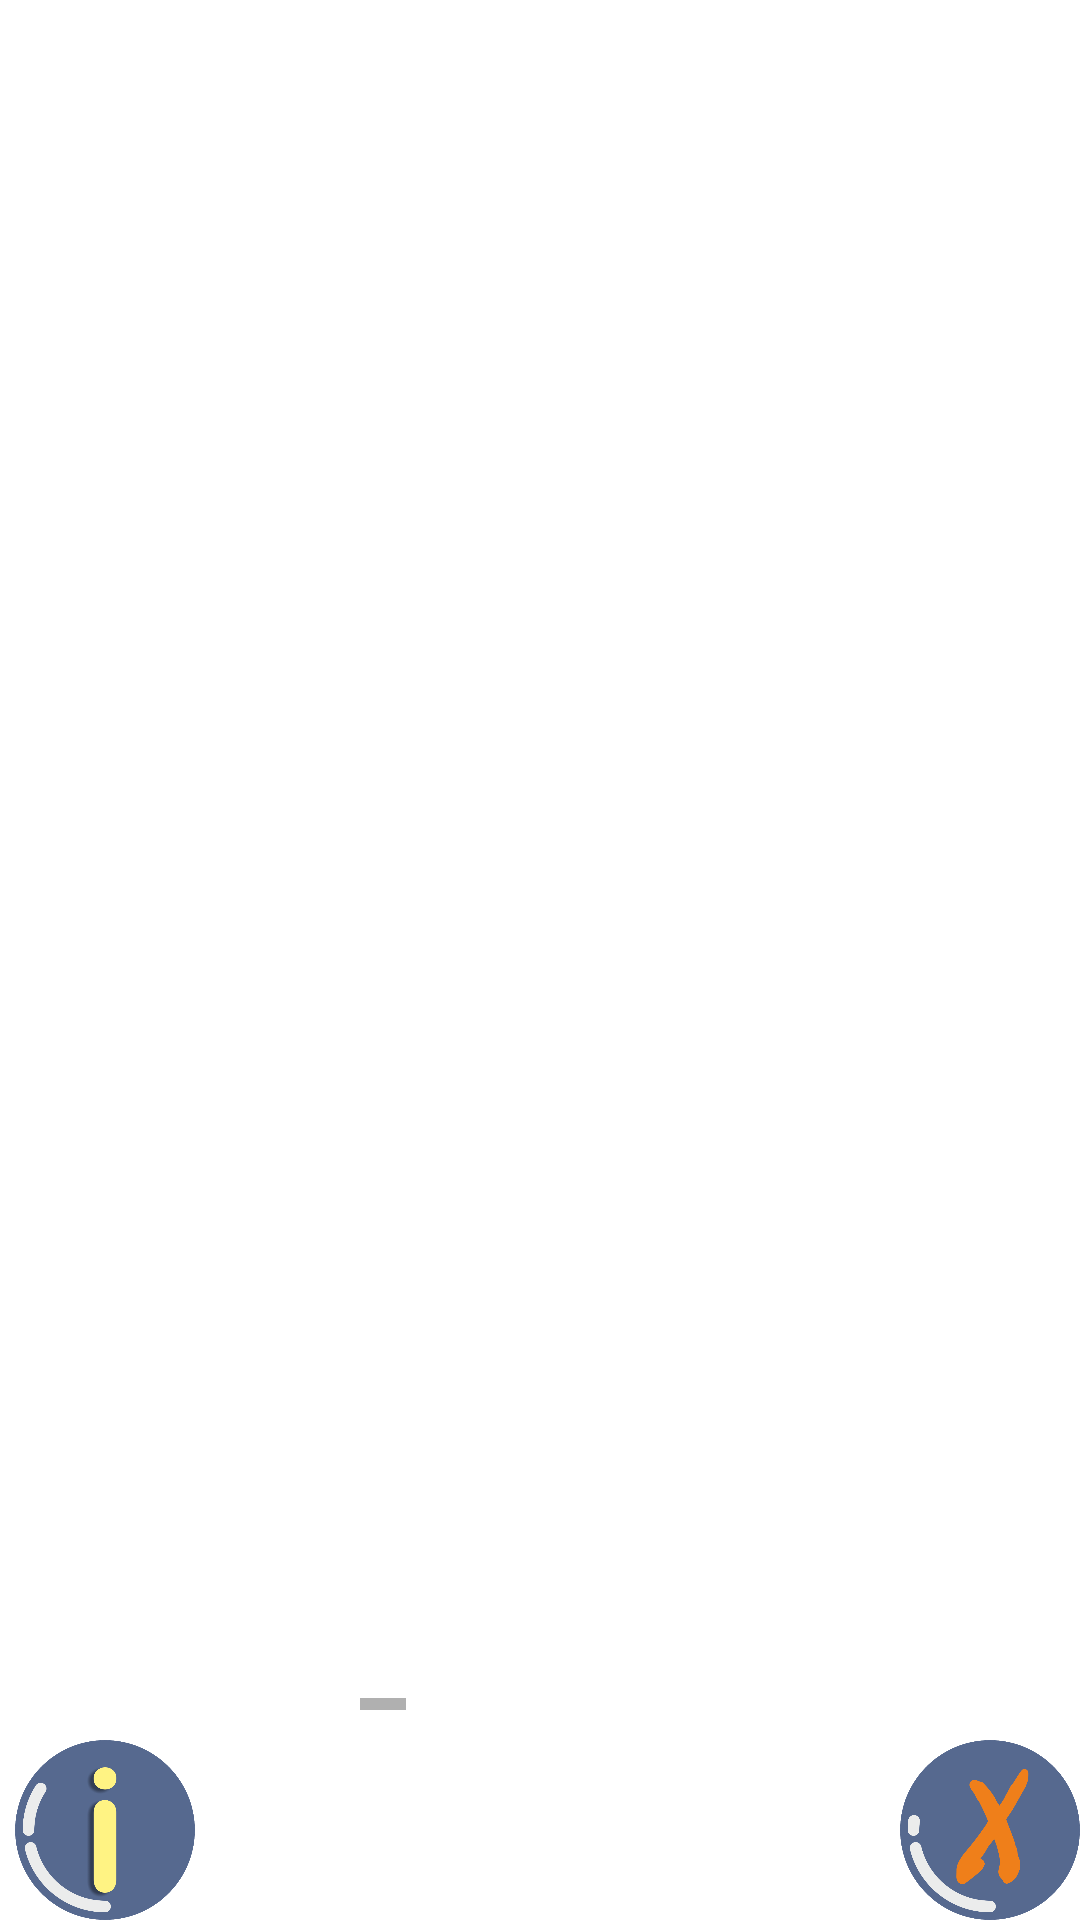

Point at icon controls on the screen. Image size 1080 × 1920, points as (x,y).
exit: (990,1830)
tentang: (105,1830)
